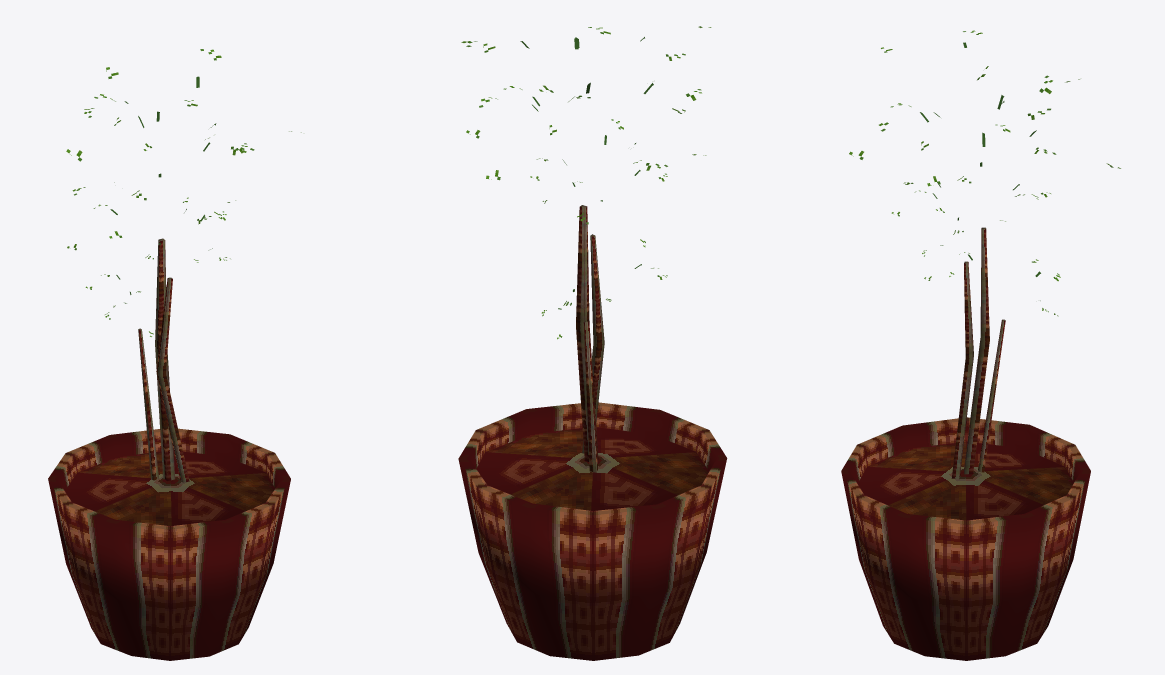
Rendered from int_plt_rattan.dae.
The picture shows the model from 3 angles, left to right: view 1: azimuth 30°, elevation 25°; view 2: azimuth 150°, elevation 25°; view 3: azimuth 270°, elevation 25°; orthographic projection. The views are drawn at different scales.
Parts seen in each view (by area): view 1: int_plt_rattan; view 2: int_plt_rattan; view 3: int_plt_rattan.
Part boxes in pixels (x1,y1,x2,y2): int_plt_rattan: (48, 49, 301, 660); int_plt_rattan: (458, 26, 727, 660); int_plt_rattan: (841, 30, 1120, 660).
Size of the model in its own units: 35.11 by 66.6 by 37.8.
2 materials, 2 textured.
